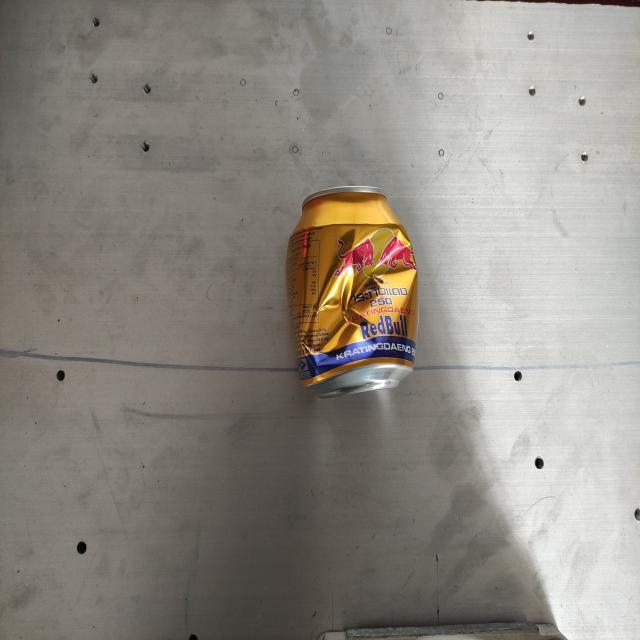kimloai: (288, 186, 418, 398)
